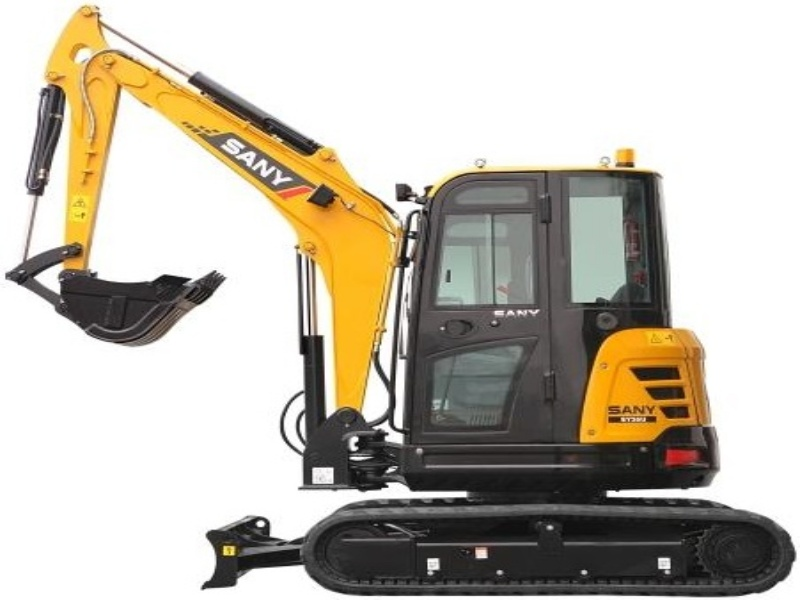wajueji: (205, 90, 793, 600)
